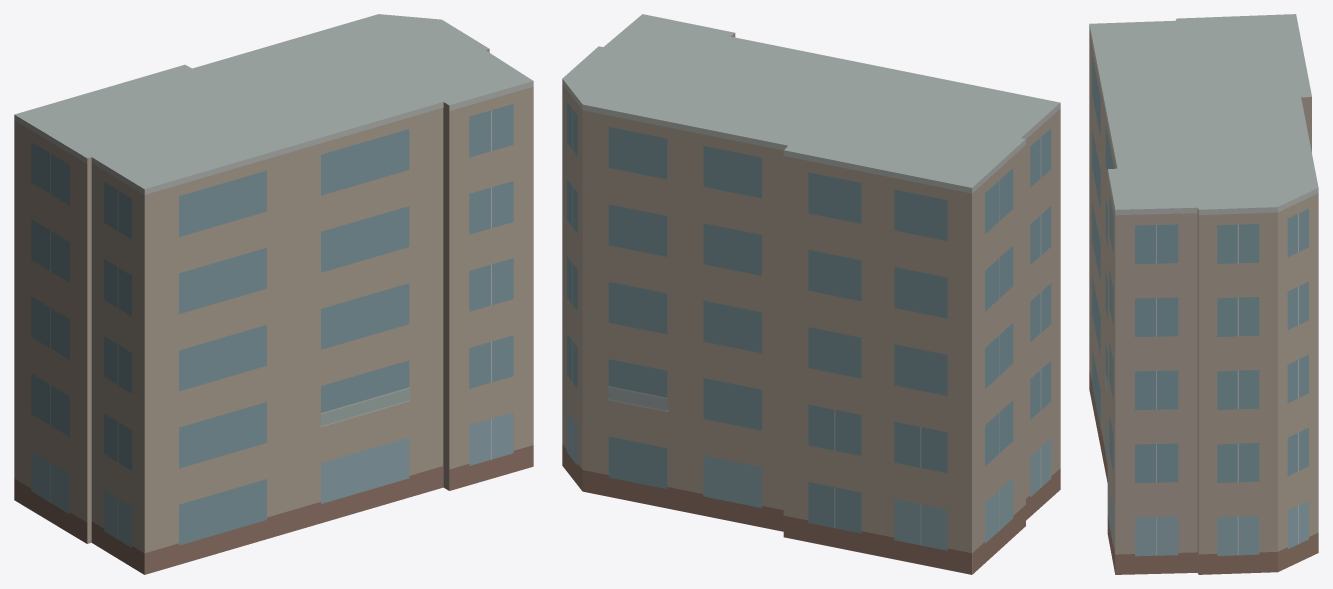
The model's file is survey-upis-32714383.glb.
3 views of the same model, side by side, from view 1: azimuth 30°, elevation 25°; view 2: azimuth 150°, elevation 25°; view 3: azimuth 270°, elevation 25° (orthographic). The views are drawn at different scales.
Parts seen in each view (by area): view 1: survey-upis-32714383.tmp; view 2: survey-upis-32714383.tmp; view 3: survey-upis-32714383.tmp.
Boxes of the visible parts, <box> form: survey-upis-32714383.tmp: <box>14,14,533,574</box>; survey-upis-32714383.tmp: <box>562,14,1060,574</box>; survey-upis-32714383.tmp: <box>1089,14,1318,574</box>.
Size of the model in its own units: 18.99 by 16.5 by 9.4.
